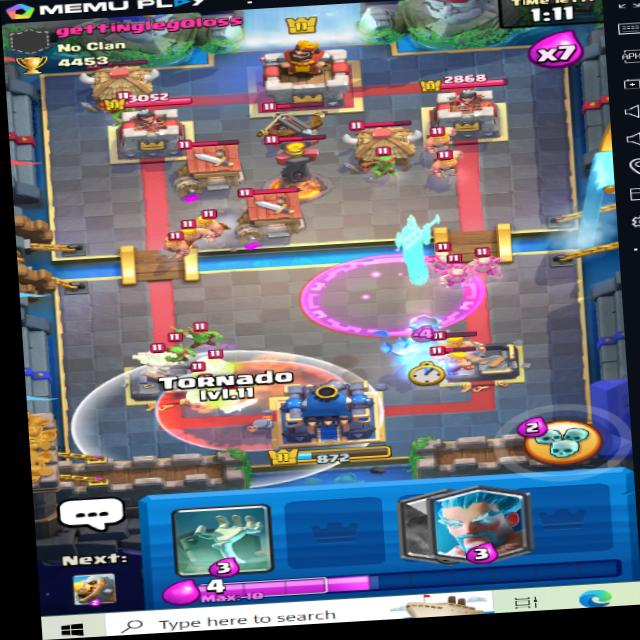barbarian: (156, 230, 202, 262), (416, 120, 465, 150), (428, 351, 480, 378), (187, 209, 235, 236), (430, 334, 485, 356), (424, 153, 468, 180), (173, 223, 216, 242)
barbarian-hut: (233, 185, 315, 238), (172, 135, 249, 191)
goblin-hut: (341, 116, 429, 178), (80, 55, 157, 109)
inferno-tower: (264, 131, 336, 202)
rage: (294, 240, 489, 342)
spear-goblin: (469, 245, 507, 277), (134, 345, 174, 374), (443, 256, 476, 288), (421, 242, 455, 273), (156, 332, 196, 358), (363, 153, 405, 175), (190, 327, 223, 352)
x-bow: (242, 93, 336, 156)
